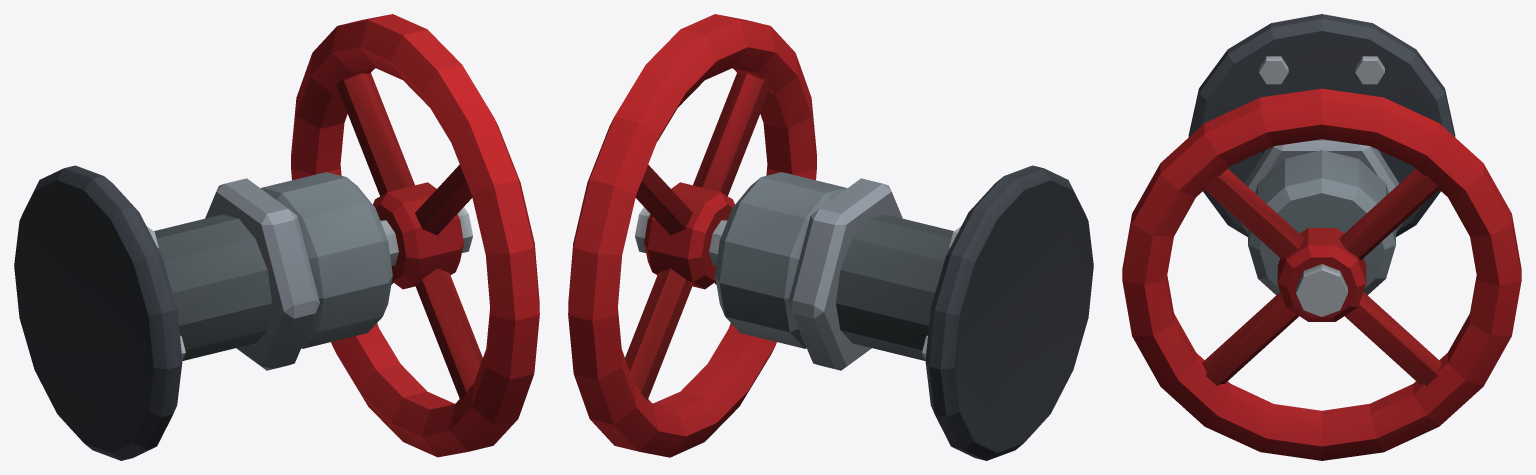
Rendered from valve.glb.
3 views of the same model, side by side, from view 1: azimuth 30°, elevation 25°; view 2: azimuth 150°, elevation 25°; view 3: azimuth 270°, elevation 25° (orthographic). The views are drawn at different scales.
Visible parts, largest first — view 1: Body, Wheel; view 2: Body, Wheel; view 3: Wheel, Body.
Boxes of the visible parts, left/top/right/bottom form: Body: left=14, top=165, right=398, bottom=460; Wheel: left=291, top=14, right=539, bottom=457; Body: left=709, top=165, right=1093, bottom=460; Wheel: left=568, top=14, right=816, bottom=457; Wheel: left=1122, top=88, right=1521, bottom=460; Body: left=1188, top=14, right=1455, bottom=295.
Size of the model in its own units: 0.52 by 0.5393 by 0.5396.
